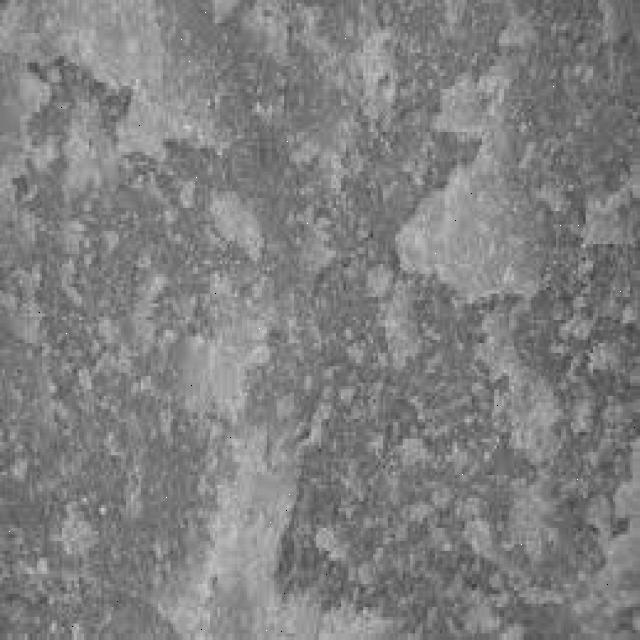Metamorphic: (3, 3, 630, 630)
